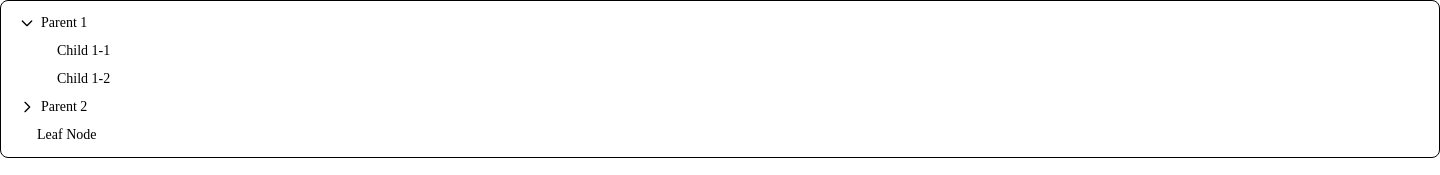
it: TreeView Component › Rendering › hides children when parent is collapsed
Expected: the text "Child 1-1" is shown, [57,43,110,58]
Click the button without text next to "Parent 1" at {"x": 27, "y": 23}, box [17,13,37,33]
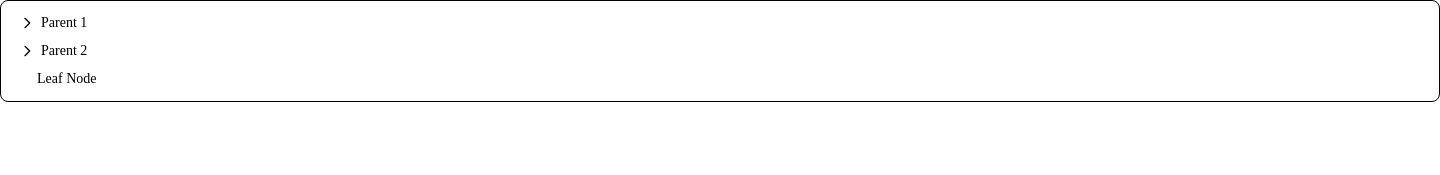
Result: the text "Child 1-1" is gone
